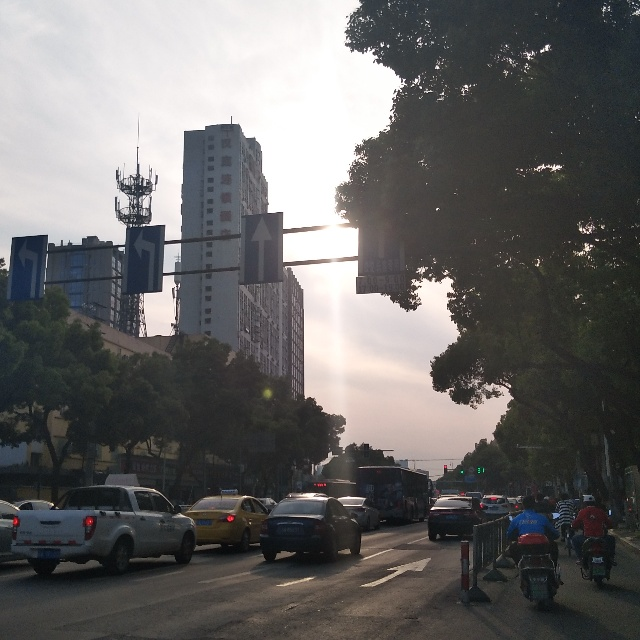left: (124, 225, 167, 297), (7, 232, 47, 303)
straight: (236, 210, 286, 288)
